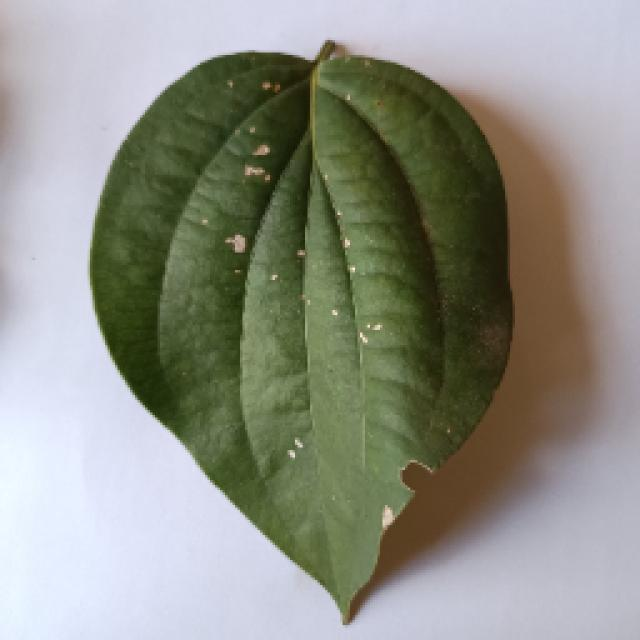pollu-disease: (88, 42, 508, 620)
